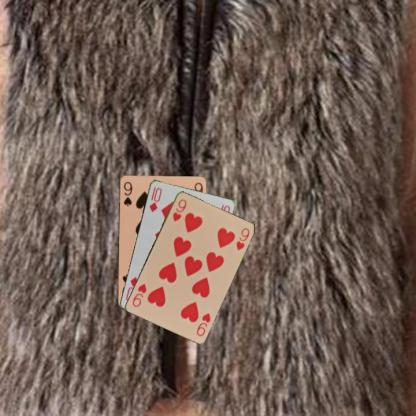10d: (146, 184, 163, 213)
9h: (194, 310, 212, 337), (170, 197, 188, 223)
9s: (121, 179, 133, 208)
